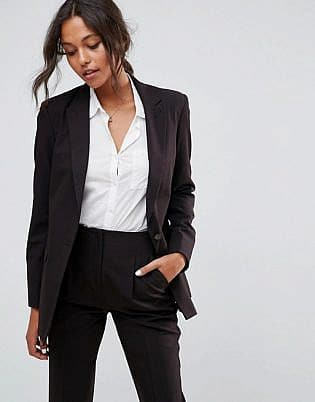F_W_suit jacket: (22, 81, 201, 331)
